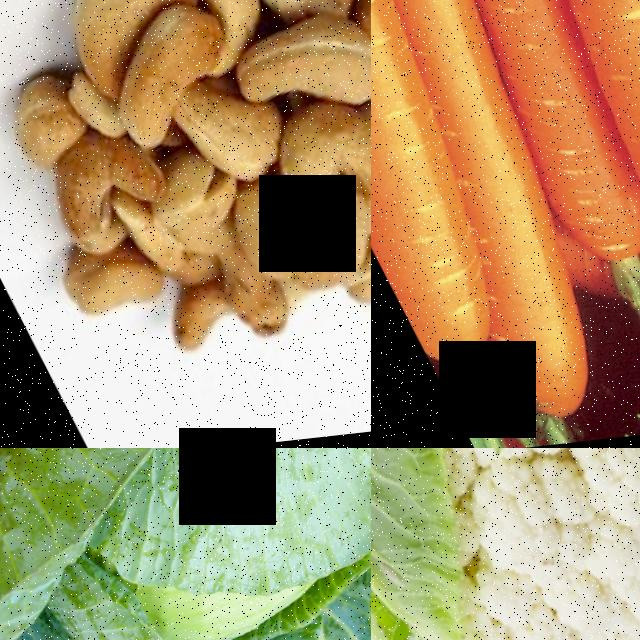cabbage: (0, 448, 371, 640)
carrot: (438, 105, 639, 445), (371, 0, 523, 419), (446, 0, 640, 315), (523, 0, 640, 324)
cashew: (218, 1, 371, 161), (38, 232, 178, 379), (82, 16, 229, 148), (0, 0, 190, 96), (18, 133, 161, 259), (126, 277, 260, 407), (208, 169, 334, 302), (280, 102, 371, 267), (155, 0, 271, 67), (0, 79, 74, 170), (334, 230, 371, 348), (224, 0, 334, 37)
cauliflower: (371, 448, 640, 640)
